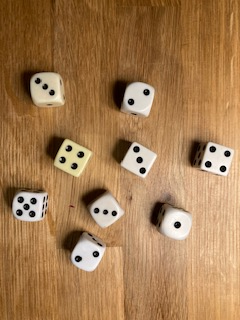five: (11, 187, 49, 221)
four: (51, 137, 93, 178), (194, 141, 236, 177)
one: (155, 202, 195, 242)
three: (119, 140, 159, 179), (88, 190, 125, 230), (29, 71, 66, 109)
two: (70, 231, 107, 274), (120, 80, 157, 119)
